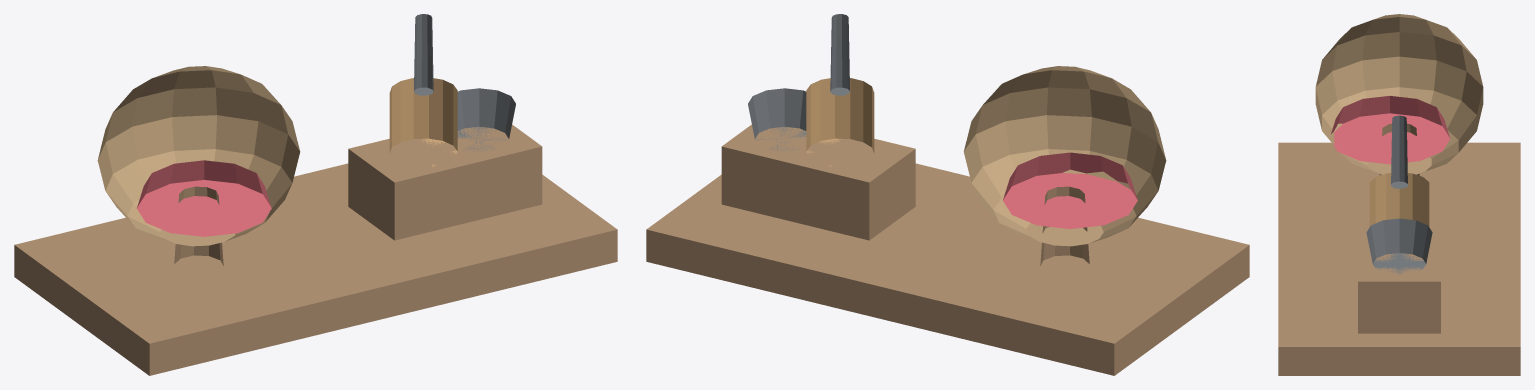
The model's file is prop_21_me_linh_bird_nest_bali_swing_and_coffee_roaster_kit.glb.
3 renders of one model, left to right at view 1: azimuth 30°, elevation 25°; view 2: azimuth 150°, elevation 25°; view 3: azimuth 270°, elevation 25°, orthographic. The views are drawn at different scales.
Visible parts, largest first — view 1: prop_21_me_linh_bird_nest_bali_swing_and_coffee_roaster_kit; view 2: prop_21_me_linh_bird_nest_bali_swing_and_coffee_roaster_kit; view 3: prop_21_me_linh_bird_nest_bali_swing_and_coffee_roaster_kit.
Part boxes in pixels (bbox=[...]): prop_21_me_linh_bird_nest_bali_swing_and_coffee_roaster_kit: bbox=[14, 14, 617, 375]; prop_21_me_linh_bird_nest_bali_swing_and_coffee_roaster_kit: bbox=[646, 14, 1249, 375]; prop_21_me_linh_bird_nest_bali_swing_and_coffee_roaster_kit: bbox=[1278, 14, 1520, 375].
Bounding box in the file's own units: 7.6 × 3.5 × 3.8.
